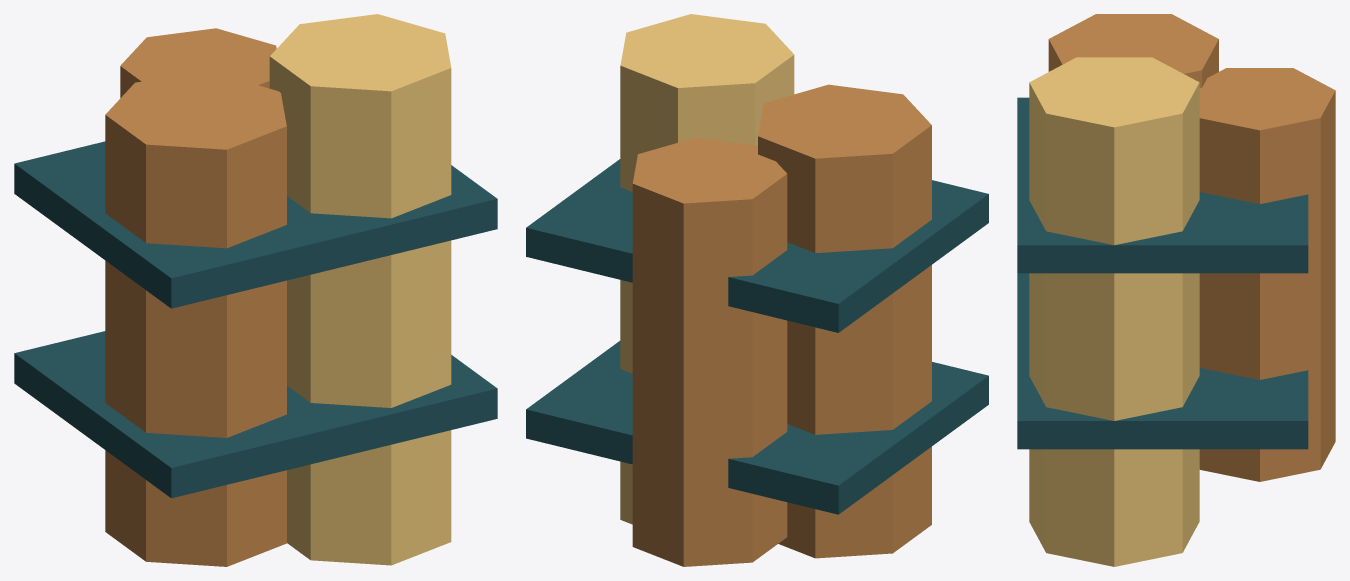
Rendered from TimberBundle.obj.
3 views of the same model, side by side, from view 1: azimuth 30°, elevation 25°; view 2: azimuth 150°, elevation 25°; view 3: azimuth 270°, elevation 25° (orthographic). The views are drawn at different scales.
Size of the model in its own units: 1.8 by 2.5 by 1.64.
